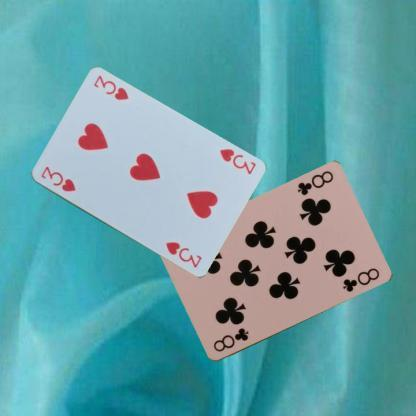3h: (216, 146, 258, 176), (38, 164, 77, 193)
8c: (294, 168, 335, 198), (210, 325, 250, 354)
